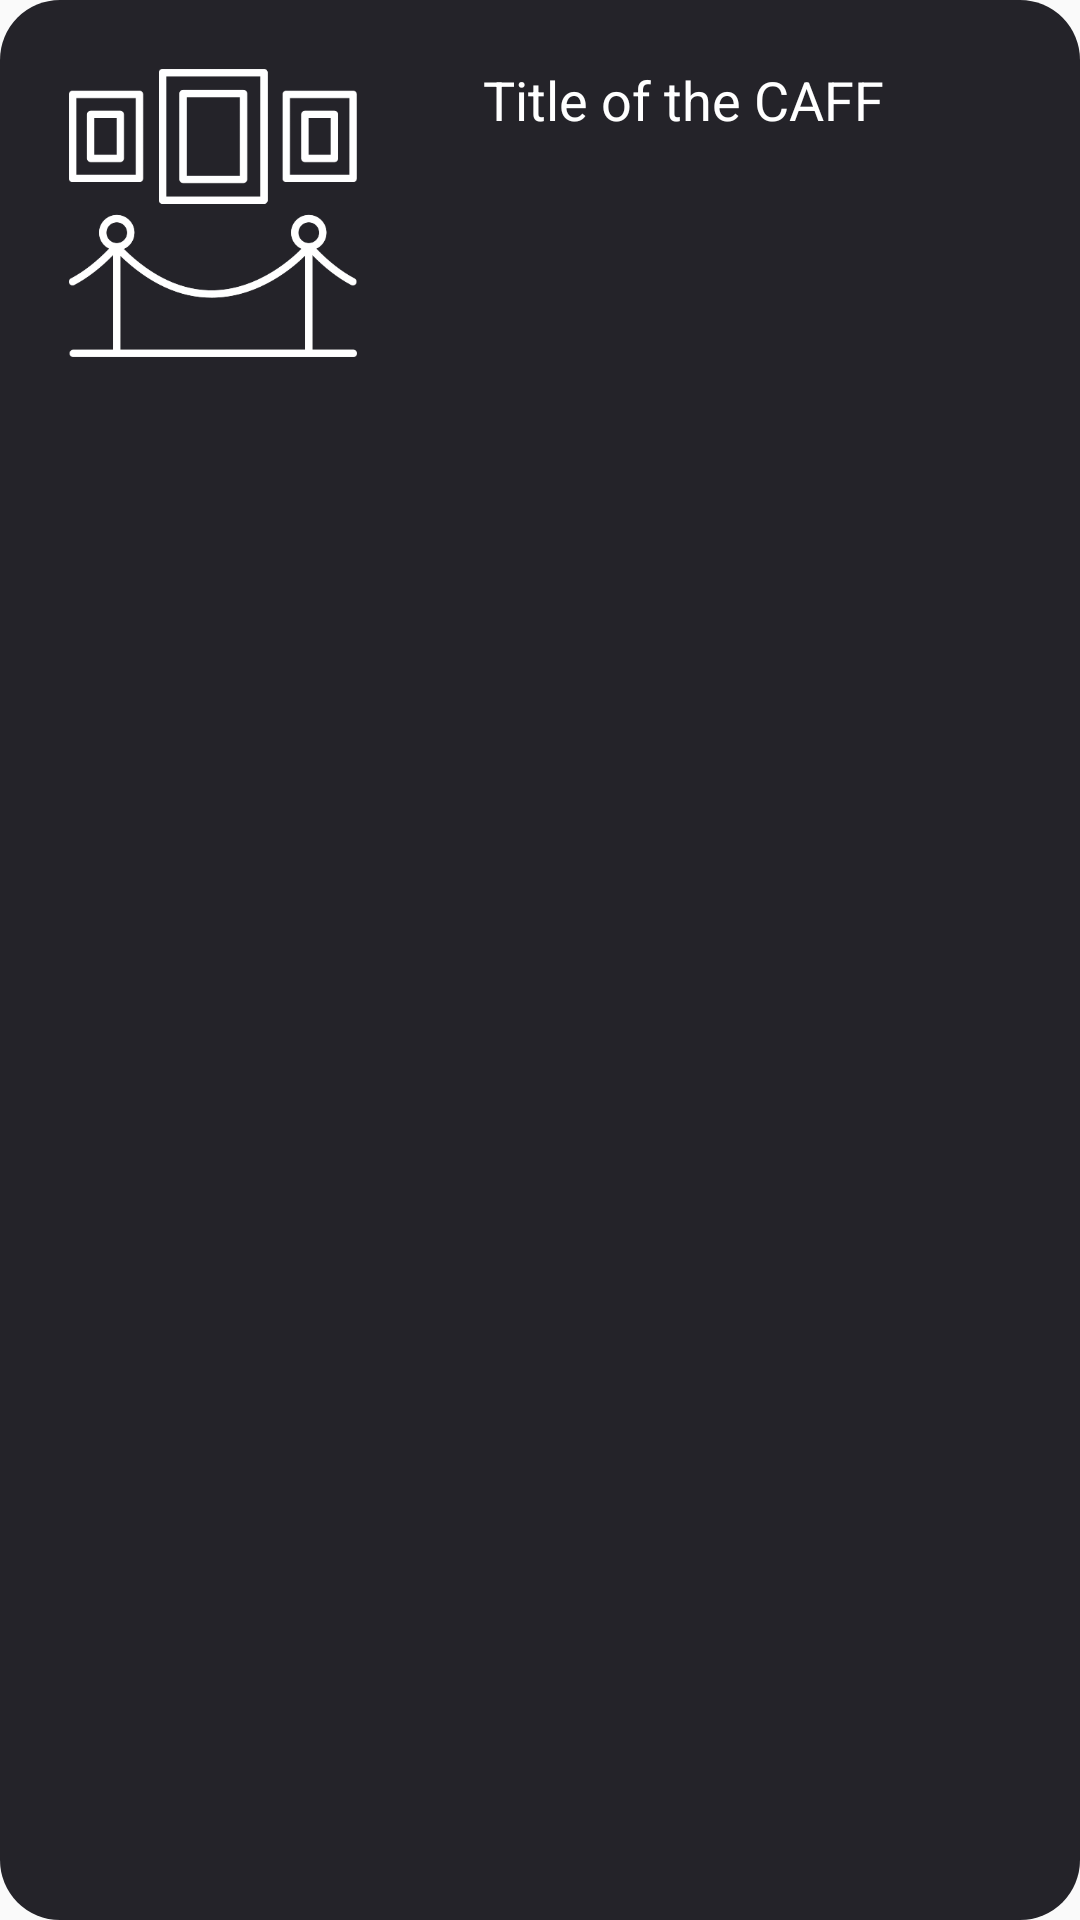

Icons on this 1080x1920 Android screen, each with its box as (x1, y1, x2, y2):
art gallery: (69, 69, 357, 357)
